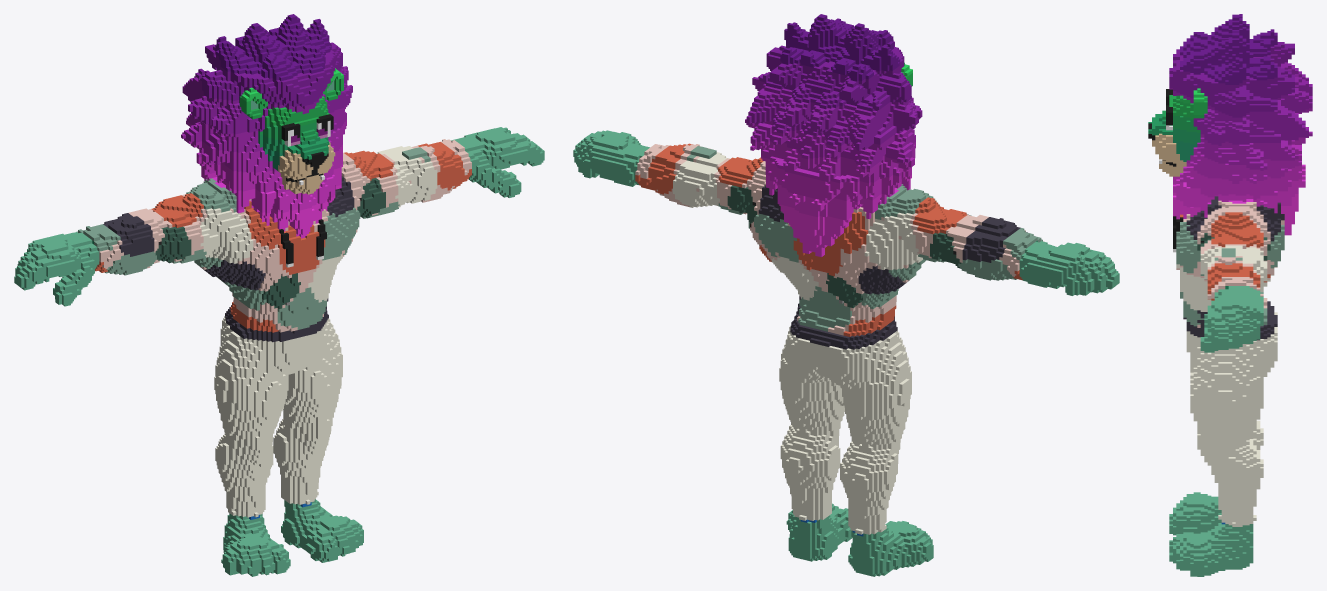
The model's file is 1109-CjMGBBOJ.fbx.
The picture shows the model from 3 angles, left to right: view 1: azimuth 30°, elevation 25°; view 2: azimuth 150°, elevation 25°; view 3: azimuth 270°, elevation 25°; orthographic projection. The views are drawn at different scales.
Visible parts, largest first — view 1: standard; view 2: standard; view 3: standard.
Part boxes in pixels (left/top/right/bottom): standard: left=14, top=14, right=544, bottom=576; standard: left=573, top=14, right=1119, bottom=576; standard: left=1148, top=14, right=1312, bottom=576.
Bounding box in the file's own units: 17.2 × 16.5 × 4.7.
Materials: 5 (5 with a texture image).
